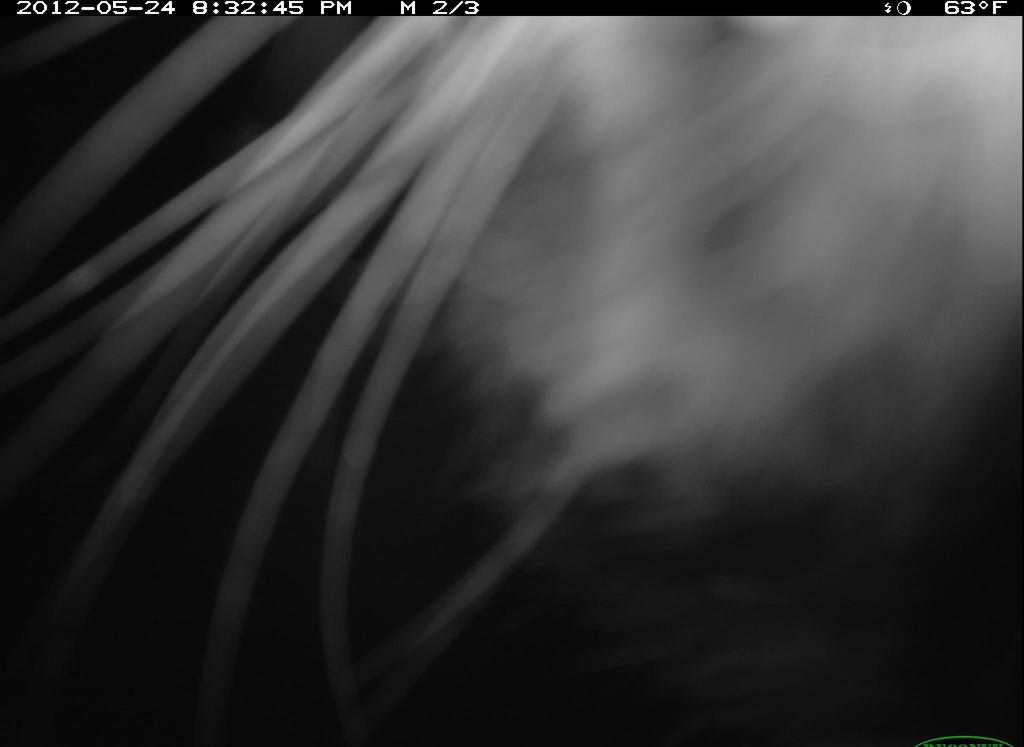raccoon: (4, 15, 1024, 743)
